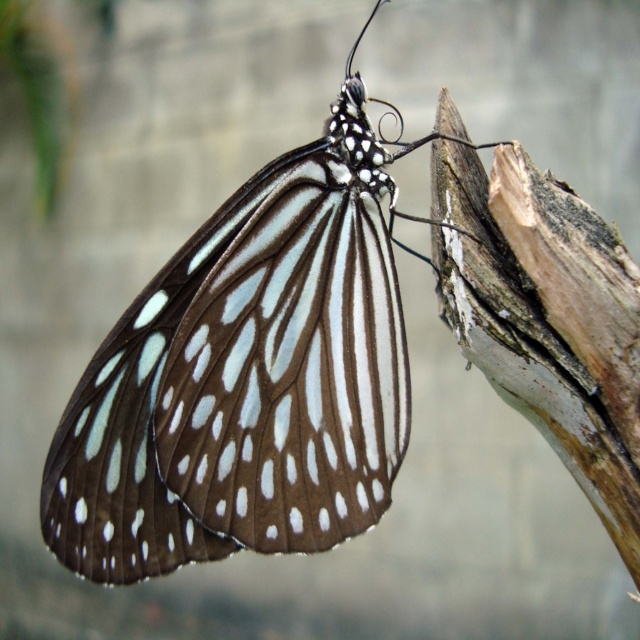Butterfly: (46, 10, 508, 590)
